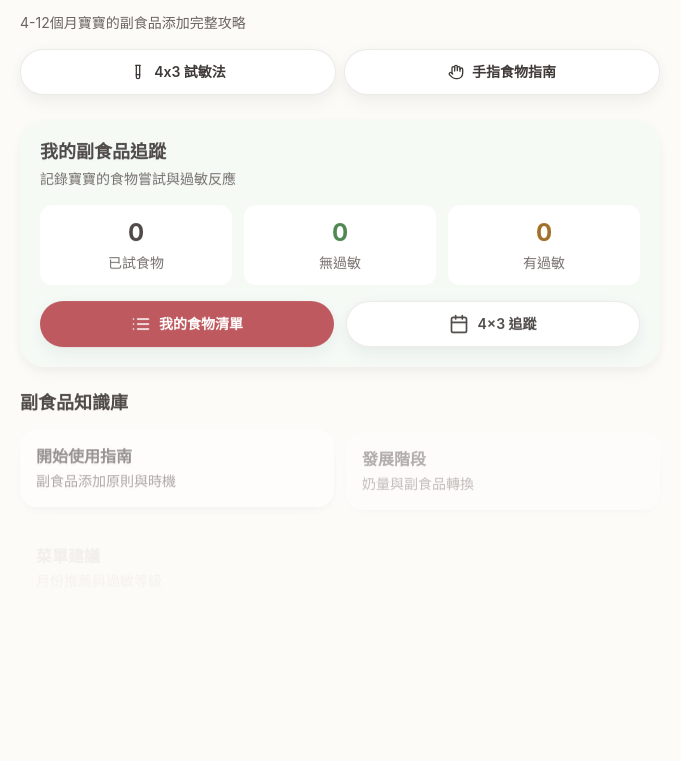
Test: 發展階段的收合 › 階段預設收合，點開才展開
Click the heading "發展階段".
click(394, 458)  # box [362, 448, 426, 468]
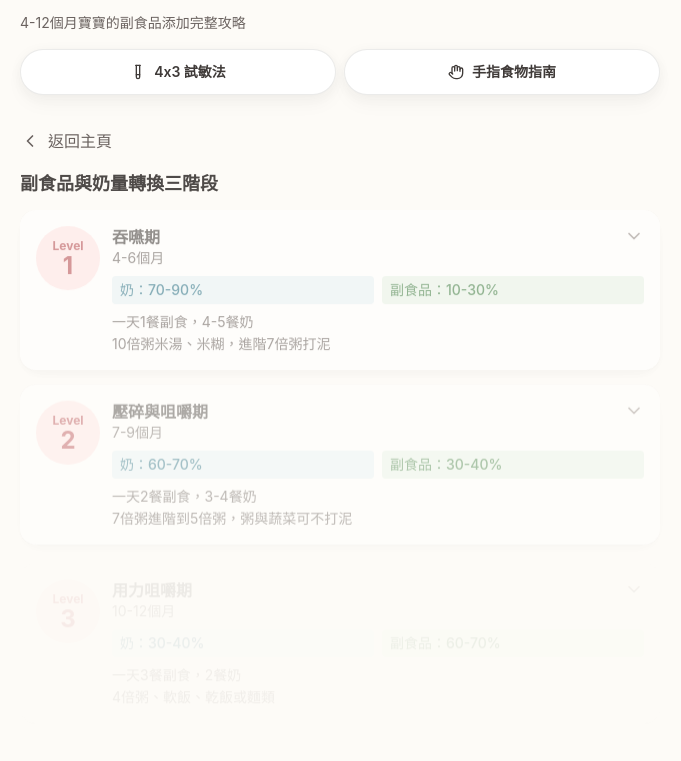
Expected: the heading "副食品與奶量轉換三階段" is shown, [20, 173, 218, 194]
Expected: the 4th button is shown
Click the 4th button.
click(340, 290)  # box [20, 210, 660, 370]
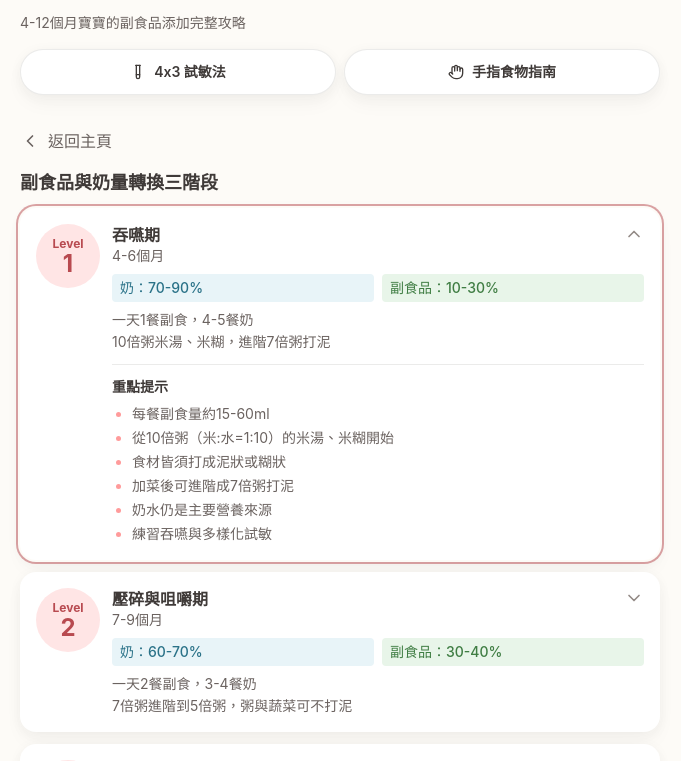
Expected: the 4th button is expanded, [20, 208, 660, 560]
